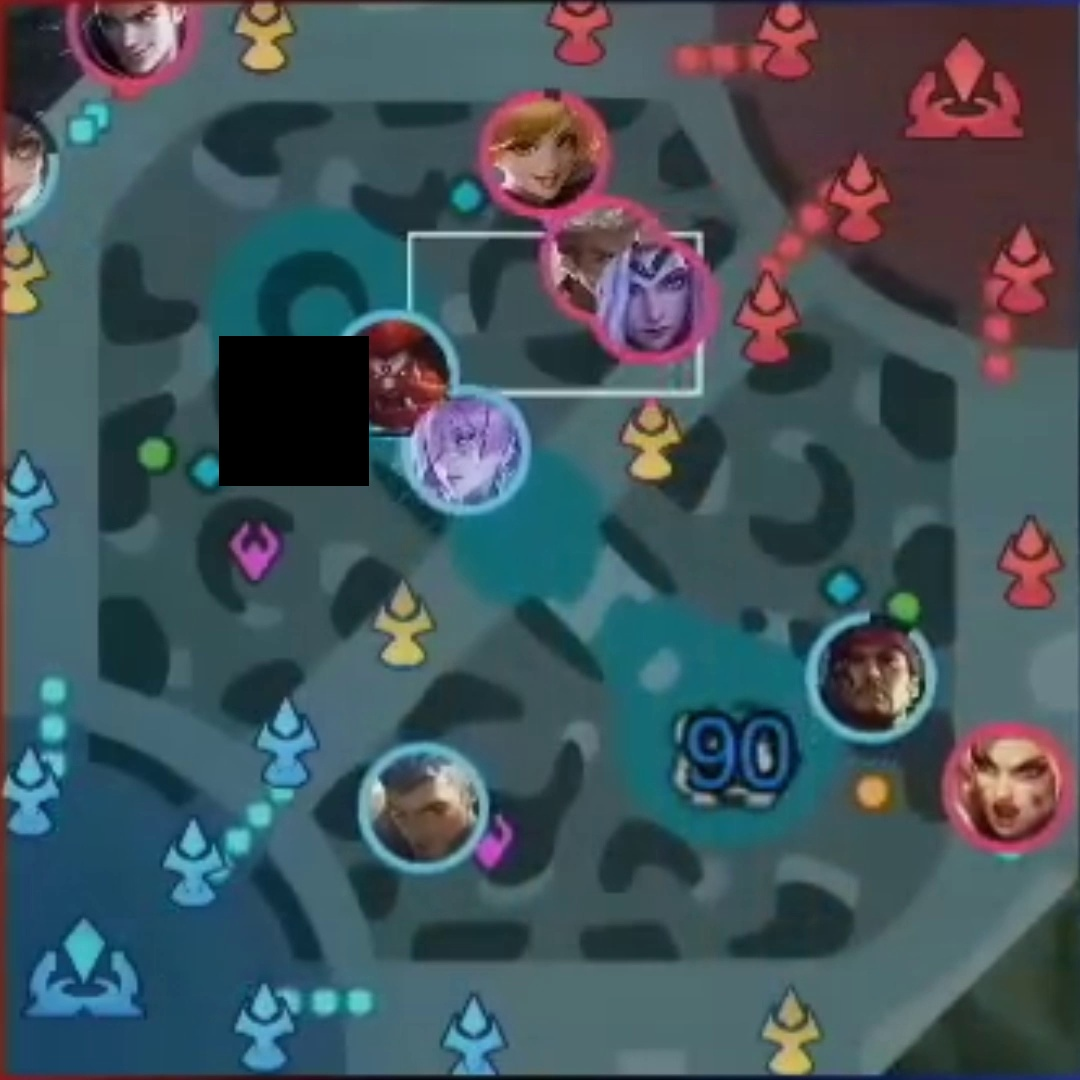Chou: (557, 204, 615, 307)
Claude: (82, 3, 170, 74)
Fanny: (498, 103, 579, 200)
Fredrinn: (382, 756, 469, 860)
Lapu-Lapu: (830, 629, 908, 720)
Masha: (966, 742, 1046, 835)
Minotaur: (350, 334, 436, 424)
Novaria: (422, 409, 506, 500)
Valentina: (612, 254, 690, 351)
Wanwan: (1, 114, 43, 209)
